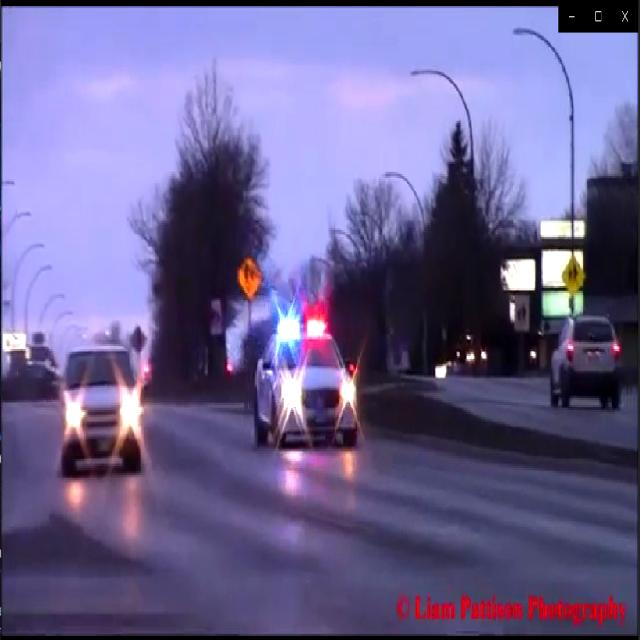emergency: (250, 296, 364, 446)
